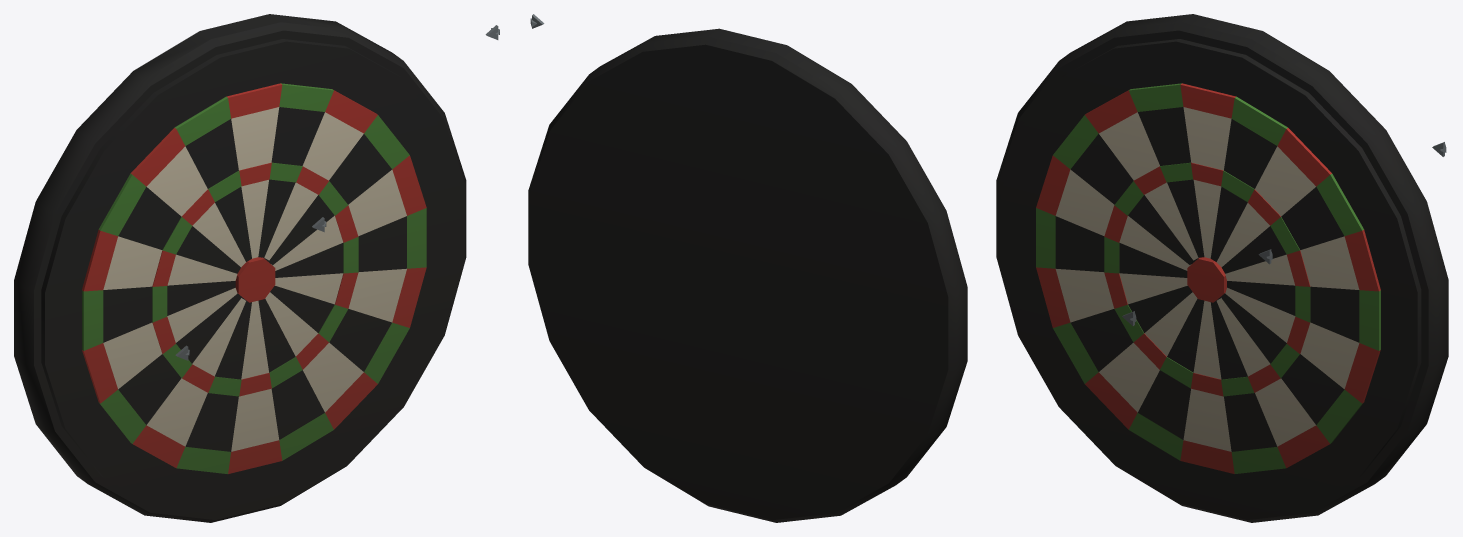
Rendered from 60_cible_flechettes.fbx.
3 renders of one model, left to right at view 1: azimuth 30°, elevation 25°; view 2: azimuth 150°, elevation 25°; view 3: azimuth 330°, elevation 25°, orthographic. The views are drawn at different scales.
Visible parts, largest first — view 1: Cible; view 2: Cible; view 3: Cible.
Boxes of the visible parts, box(x1,y1,x2,y2) form: Cible: box(14, 14, 466, 522); Cible: box(528, 28, 967, 522); Cible: box(996, 14, 1448, 522).
Size of the model in its own units: 0.504 by 0.504 by 0.056.
Materials: 1 (1 with a texture image).
